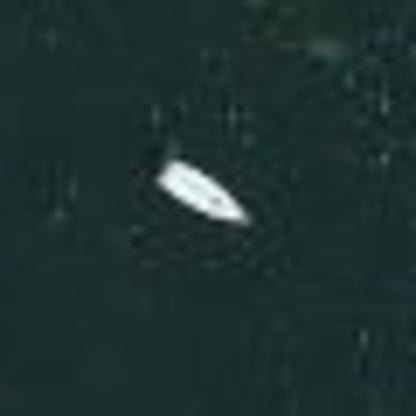ship: (145, 146, 260, 239)
